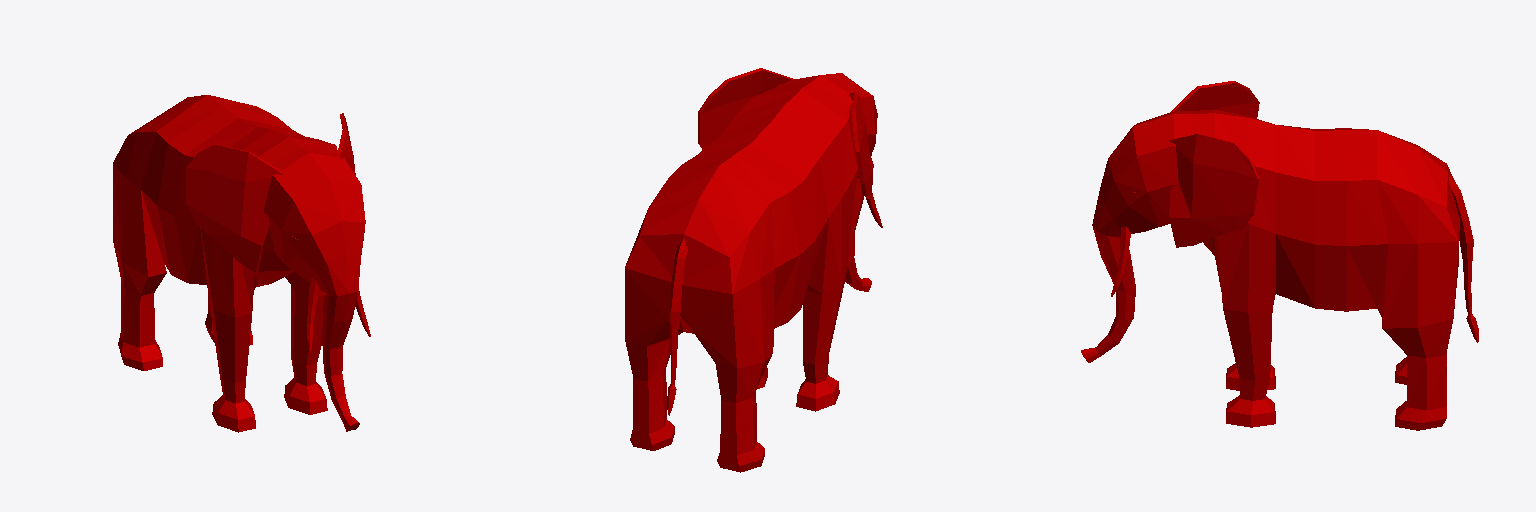
The model's file is ceshi.obj.
3 renders of one model, left to right at view 1: azimuth 30°, elevation 25°; view 2: azimuth 150°, elevation 25°; view 3: azimuth 270°, elevation 25°, orthographic.
Parts seen in each view (by area): view 1: Elephant_Model; view 2: Elephant_Model; view 3: Elephant_Model.
Part boxes in pixels (left/top/right/bottom): Elephant_Model: left=113, top=95, right=370, bottom=432; Elephant_Model: left=625, top=68, right=882, bottom=472; Elephant_Model: left=1081, top=81, right=1478, bottom=430.
Size of the model in its own units: 112 by 187 by 231.